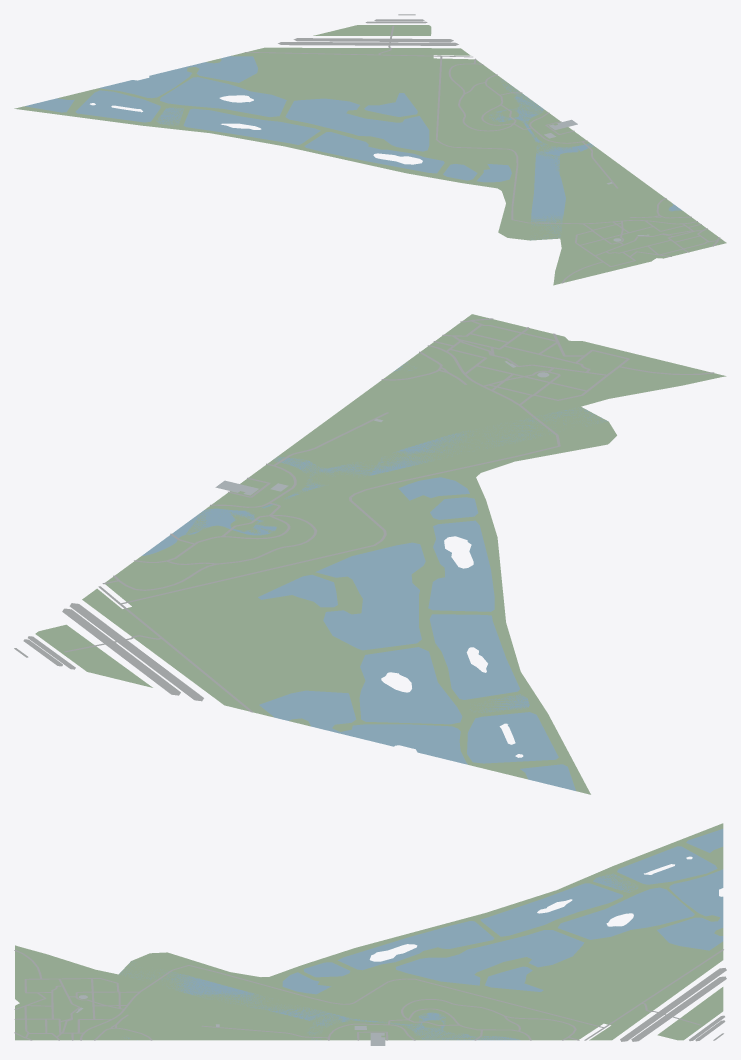
Rendered from 0_-3-known-coarse.glb.
3 views of the same model, one above another, from view 1: azimuth 30°, elevation 25°; view 2: azimuth 150°, elevation 25°; view 3: azimuth 270°, elevation 25° (orthographic). The views are drawn at different scales.
Bounding box in the file's own units: 741 × 0.15 × 1001.
